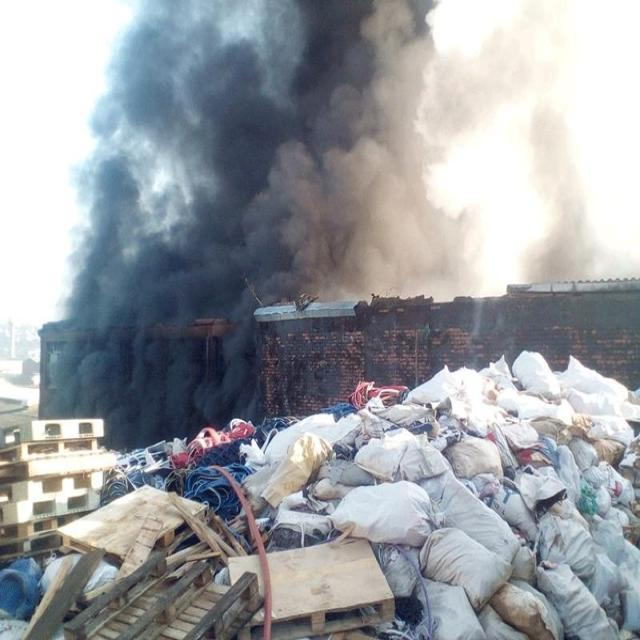Smoke: (45, 1, 600, 451)
